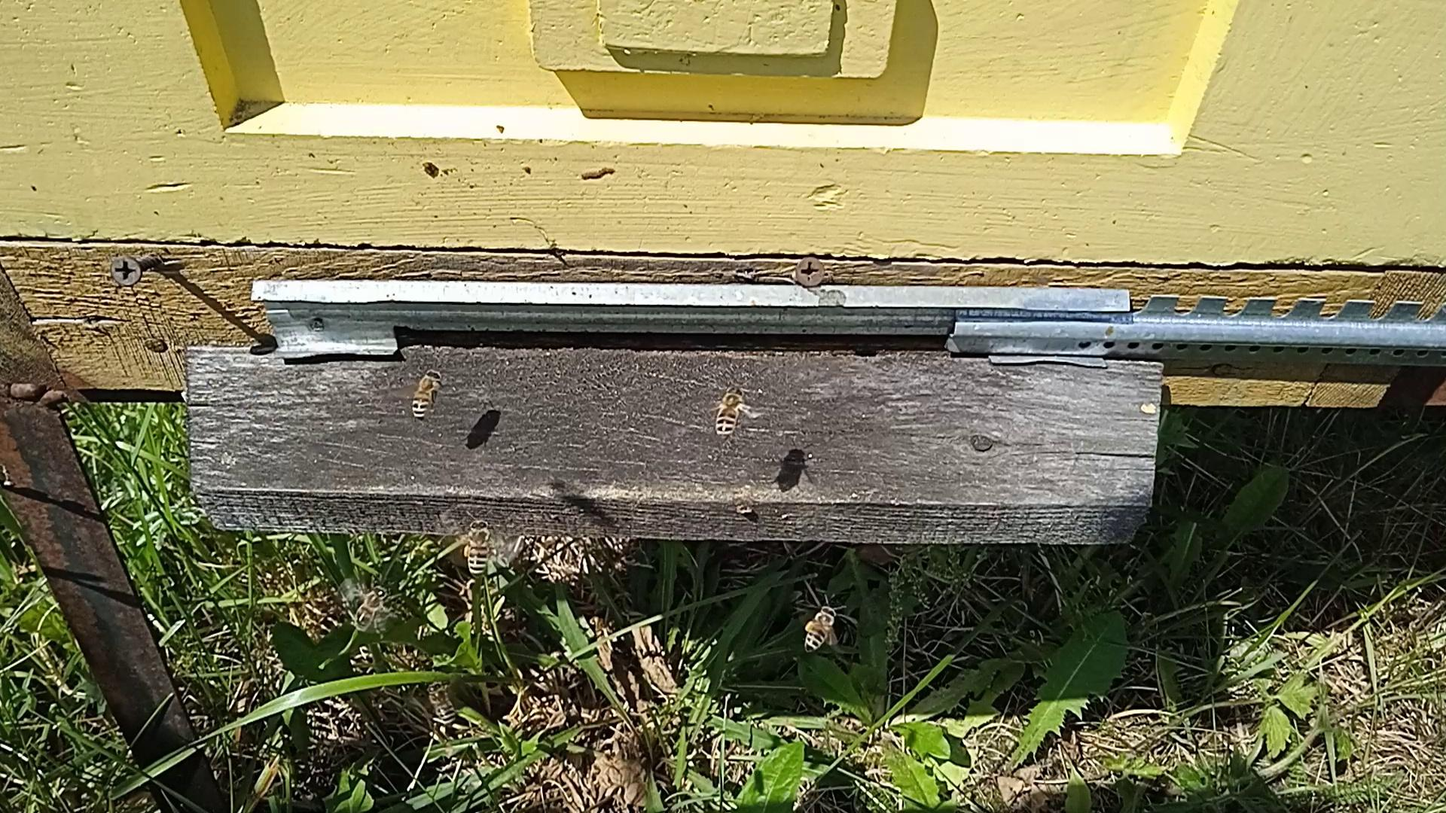worker-bee: (462, 517, 497, 578), (713, 385, 749, 438), (410, 368, 444, 420), (354, 584, 389, 632), (804, 604, 837, 653), (427, 681, 457, 725)
